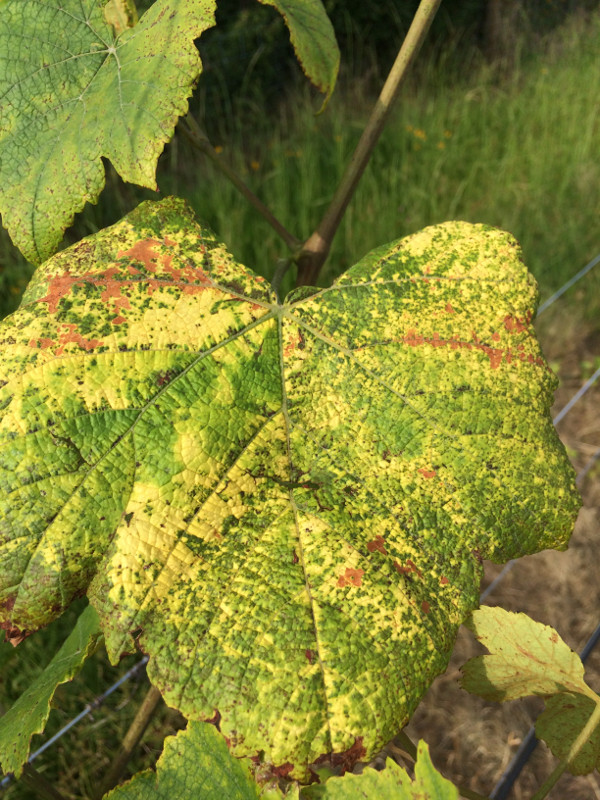downy: (71, 310, 375, 614), (383, 404, 537, 558), (386, 246, 536, 396), (235, 682, 329, 776), (376, 563, 456, 643), (155, 233, 226, 304), (1, 323, 71, 393), (328, 692, 396, 760), (85, 244, 150, 309), (2, 475, 66, 539), (2, 400, 65, 463), (2, 552, 65, 615), (32, 277, 67, 312), (95, 3, 129, 37)
